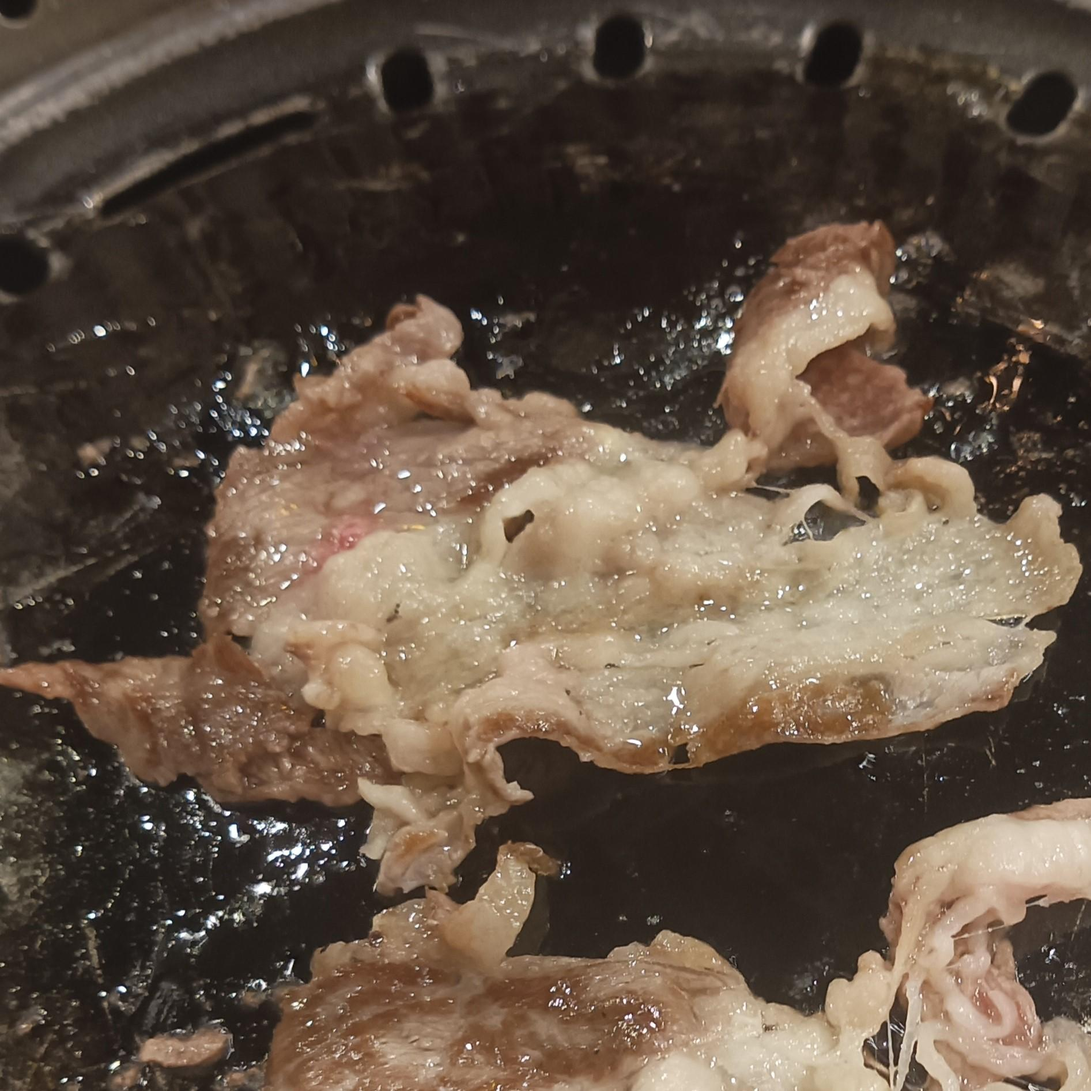Well-Cooked: (22, 226, 1081, 858), (267, 933, 870, 1090)
